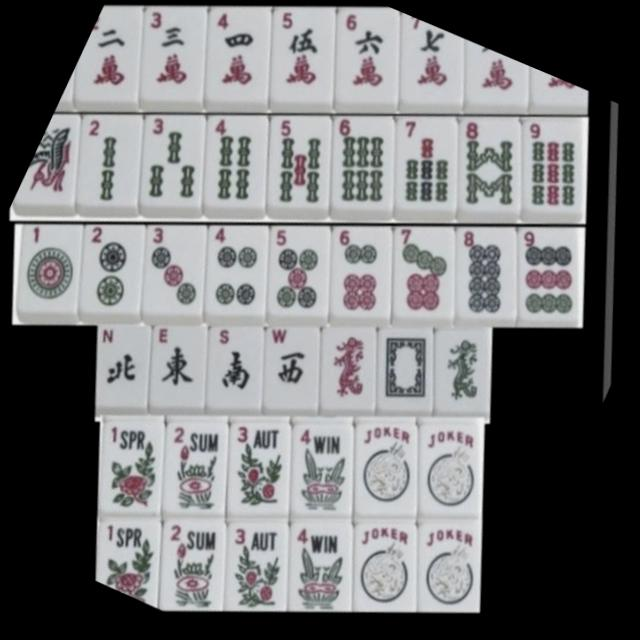hdg: (405, 311, 530, 437)
hdr: (293, 306, 415, 431)
hdw: (350, 307, 470, 431)
hwe: (122, 308, 244, 431)
hwn: (69, 309, 189, 430)
hws: (177, 308, 301, 432)
hww: (236, 308, 358, 432)
sb1: (11, 111, 113, 230)
sb2: (50, 101, 176, 231)
sb3: (114, 100, 244, 233)
sb4: (174, 95, 309, 234)
sb5: (232, 97, 373, 240)
sb6: (296, 97, 436, 242)
sb7: (358, 99, 498, 242)
sb8: (426, 97, 565, 238)
sb9: (488, 96, 625, 238)
sc1: (51, 21, 112, 124)
sc2: (59, 0, 175, 126)
sc3: (109, 1, 244, 127)
sc4: (170, 1, 307, 131)
sc5: (238, 1, 376, 132)
sc6: (297, 2, 437, 133)
sc7: (363, 11, 495, 136)
sc8: (429, 35, 550, 137)
sc9: (496, 58, 600, 131)
sd1: (0, 204, 119, 338)
sd2: (49, 204, 182, 342)
sd3: (113, 203, 248, 343)
sd4: (174, 205, 311, 344)
sd5: (233, 206, 369, 347)
sd6: (296, 206, 431, 345)
sd7: (360, 206, 496, 345)
sd8: (427, 207, 557, 341)
sd9: (484, 204, 624, 348)
